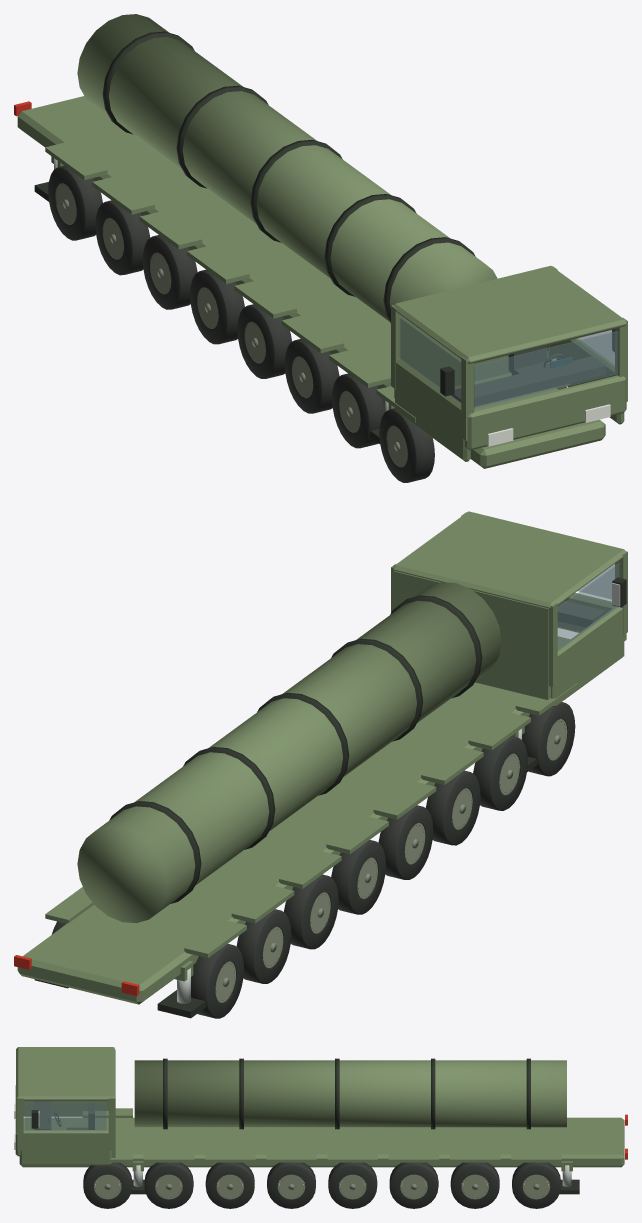
Rendered from fleet-df41.glb.
3 views of the same model, one above another, from view 1: azimuth 30°, elevation 25°; view 2: azimuth 150°, elevation 25°; view 3: azimuth 270°, elevation 25° (orthographic). The views are drawn at different scales.
Parts seen in each view (by area): view 1: TransportTube, Surface_CarRoot_Paint, Body, Surface_CarRoot_Glass, Interior_CarRoot_InteriorDark, WheelFrontR_Tyre, WheelRearR_Tyre, WheelFront4R_Tyre, WheelRear3R_Tyre, WheelRear4R_Tyre, WheelRear2R_Tyre, WheelFront3R_Tyre (+7 smaller); view 2: TransportTube, Surface_CarRoot_Paint, Body, Surface_CarRoot_Glass, WheelFront3R_Tyre, WheelRear2R_Tyre, WheelRearR_Tyre, WheelRear3R_Tyre, WheelFront4R_Tyre, WheelFront2R_Tyre, WheelRear4R_Tyre, WheelFrontR_Tyre (+7 smaller); view 3: TransportTube, Body, Surface_CarRoot_Paint, Surface_CarRoot_Glass, WheelFront2L_Tyre, WheelRear2L_Tyre, WheelRearL_Tyre, WheelFront3L_Tyre, WheelFront4L_Tyre, WheelRear3L_Tyre, WheelRear4L_Tyre, WheelFrontL_Tyre (+15 smaller).
Part boxes in pixels (x1=…): TransportTube: x1=77, y1=14, x2=497, y2=321; Surface_CarRoot_Paint: x1=45, y1=141, x2=627, y2=461; Body: x1=17, y1=96, x2=605, y2=468; Surface_CarRoot_Glass: x1=399, y1=317, x2=618, y2=408; Interior_CarRoot_InteriorDark: x1=451, y1=346, x2=605, y2=406; WheelFrontR_Tyre: x1=379, y1=408, x2=434, y2=482; WheelRearR_Tyre: x1=190, y1=269, x2=244, y2=344; WheelFront4R_Tyre: x1=237, y1=304, x2=292, y2=378; WheelRear3R_Tyre: x1=95, y1=200, x2=150, y2=275; WheelRear4R_Tyre: x1=48, y1=165, x2=102, y2=240; WheelRear2R_Tyre: x1=142, y1=235, x2=197, y2=309; WheelFront3R_Tyre: x1=284, y1=339, x2=339, y2=413; TransportTube: x1=77, y1=582, x2=501, y2=923; Surface_CarRoot_Paint: x1=45, y1=511, x2=627, y2=957; Body: x1=17, y1=636, x2=569, y2=1004; Surface_CarRoot_Glass: x1=557, y1=563, x2=619, y2=650; WheelFront3R_Tyre: x1=426, y1=770, x2=480, y2=845; WheelRear2R_Tyre: x1=284, y1=874, x2=338, y2=949; WheelRearR_Tyre: x1=331, y1=840, x2=385, y2=914; WheelRear3R_Tyre: x1=236, y1=909, x2=291, y2=983; WheelFront4R_Tyre: x1=378, y1=805, x2=433, y2=879; WheelFront2R_Tyre: x1=473, y1=736, x2=527, y2=810; WheelRear4R_Tyre: x1=191, y1=944, x2=243, y2=1018; WheelFrontR_Tyre: x1=522, y1=702, x2=575, y2=776; TransportTube: x1=134, y1=1060, x2=566, y2=1127; Body: x1=20, y1=1117, x2=624, y2=1167; Surface_CarRoot_Paint: x1=15, y1=1047, x2=561, y2=1165; Surface_CarRoot_Glass: x1=24, y1=1102, x2=106, y2=1130; WheelFront2L_Tyre: x1=144, y1=1162, x2=193, y2=1208; WheelRear2L_Tyre: x1=389, y1=1162, x2=438, y2=1208; WheelRearL_Tyre: x1=328, y1=1162, x2=377, y2=1208; WheelFront3L_Tyre: x1=205, y1=1162, x2=254, y2=1208; WheelFront4L_Tyre: x1=267, y1=1162, x2=315, y2=1208; WheelRear3L_Tyre: x1=450, y1=1162, x2=499, y2=1208; WheelRear4L_Tyre: x1=512, y1=1162, x2=560, y2=1208; WheelFrontL_Tyre: x1=83, y1=1162, x2=132, y2=1208.
Size of the model in its own units: 3.54 by 3.53 by 16.04.
